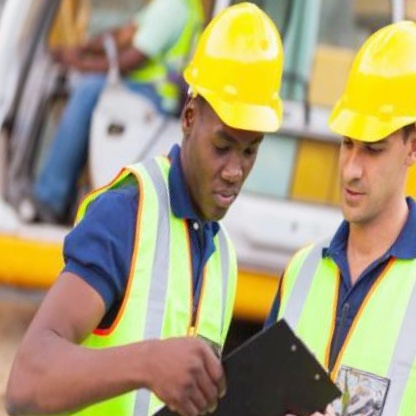vest: (14, 129, 271, 416), (226, 186, 416, 416)
yellow: (166, 0, 311, 146), (320, 1, 416, 161)
